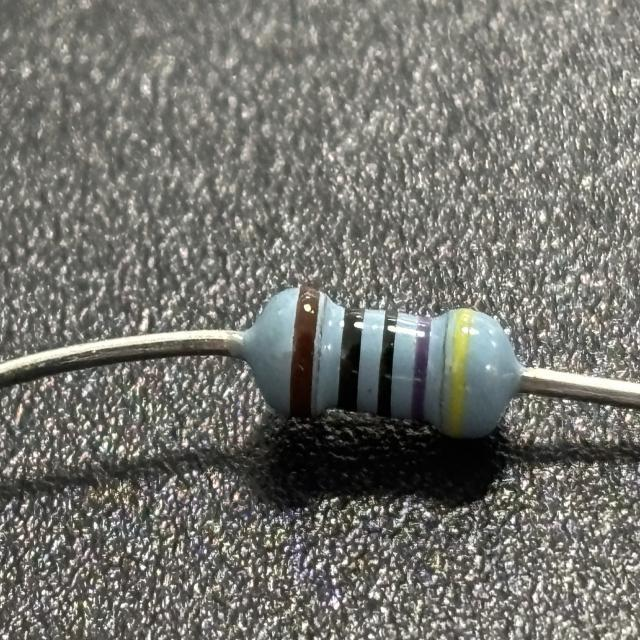resistor: (270, 282, 499, 440)
